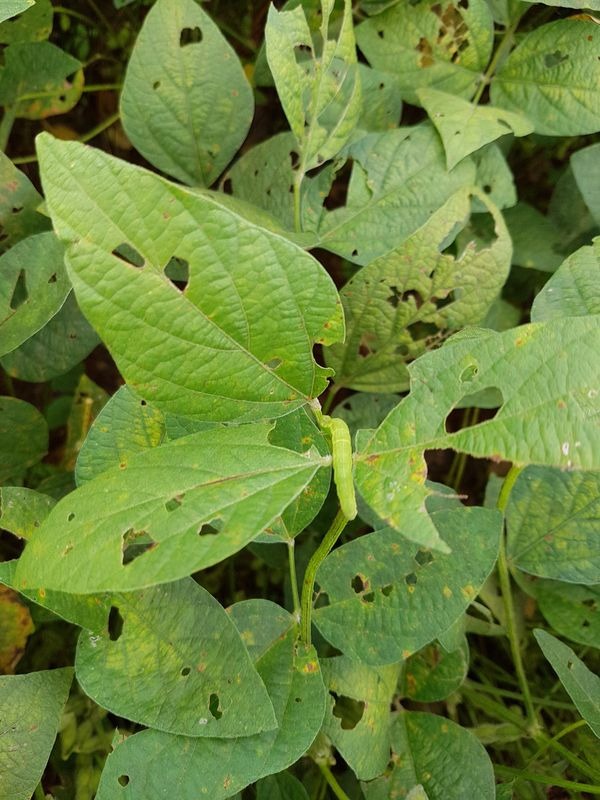Anticarsia_gemmatalis: (285, 385, 388, 529)
